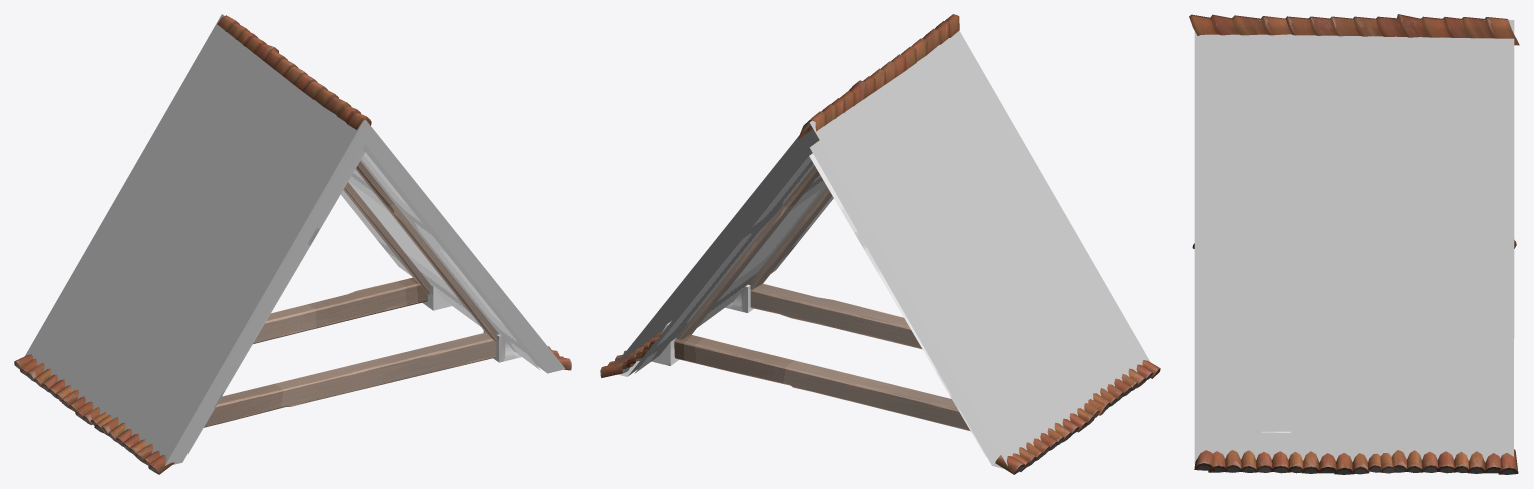
File: SM_BlacksmithS_Roof_Module_B.fbx
3 renders of one model, left to right at view 1: azimuth 30°, elevation 25°; view 2: azimuth 150°, elevation 25°; view 3: azimuth 270°, elevation 25°, orthographic. The views are drawn at different scales.
Visible parts, largest first — view 1: SM_BlacksmithS_Roof_Module_B_LOD0; view 2: SM_BlacksmithS_Roof_Module_B_LOD0; view 3: SM_BlacksmithS_Roof_Module_B_LOD0.
Part boxes in pixels (box(x1,y1,x2,y2)): SM_BlacksmithS_Roof_Module_B_LOD0: box(14, 14, 571, 474); SM_BlacksmithS_Roof_Module_B_LOD0: box(600, 14, 1160, 474); SM_BlacksmithS_Roof_Module_B_LOD0: box(1189, 14, 1519, 474).
Size of what is drawn, in the model's own units: 8.5 by 5.99 by 5.18.
